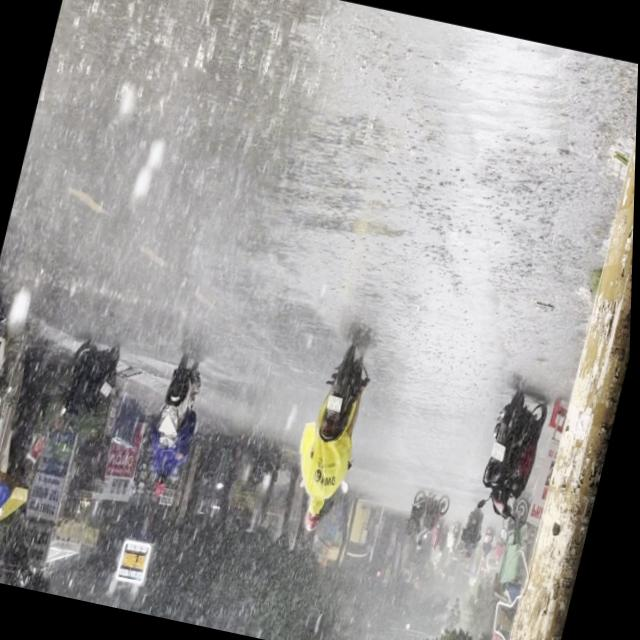helmet: (303, 498, 326, 533)
licenseplate: (281, 334, 382, 538), (137, 354, 211, 504)
nohelmet: (326, 394, 344, 413)
